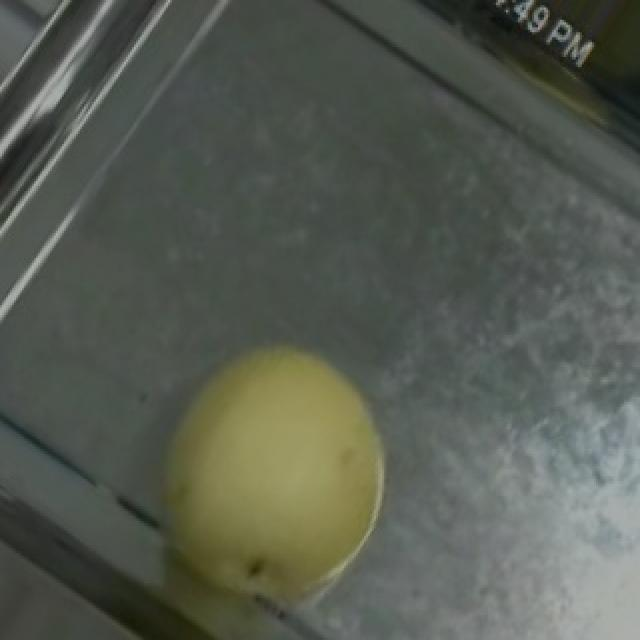Fruit: (110, 300, 420, 640)
